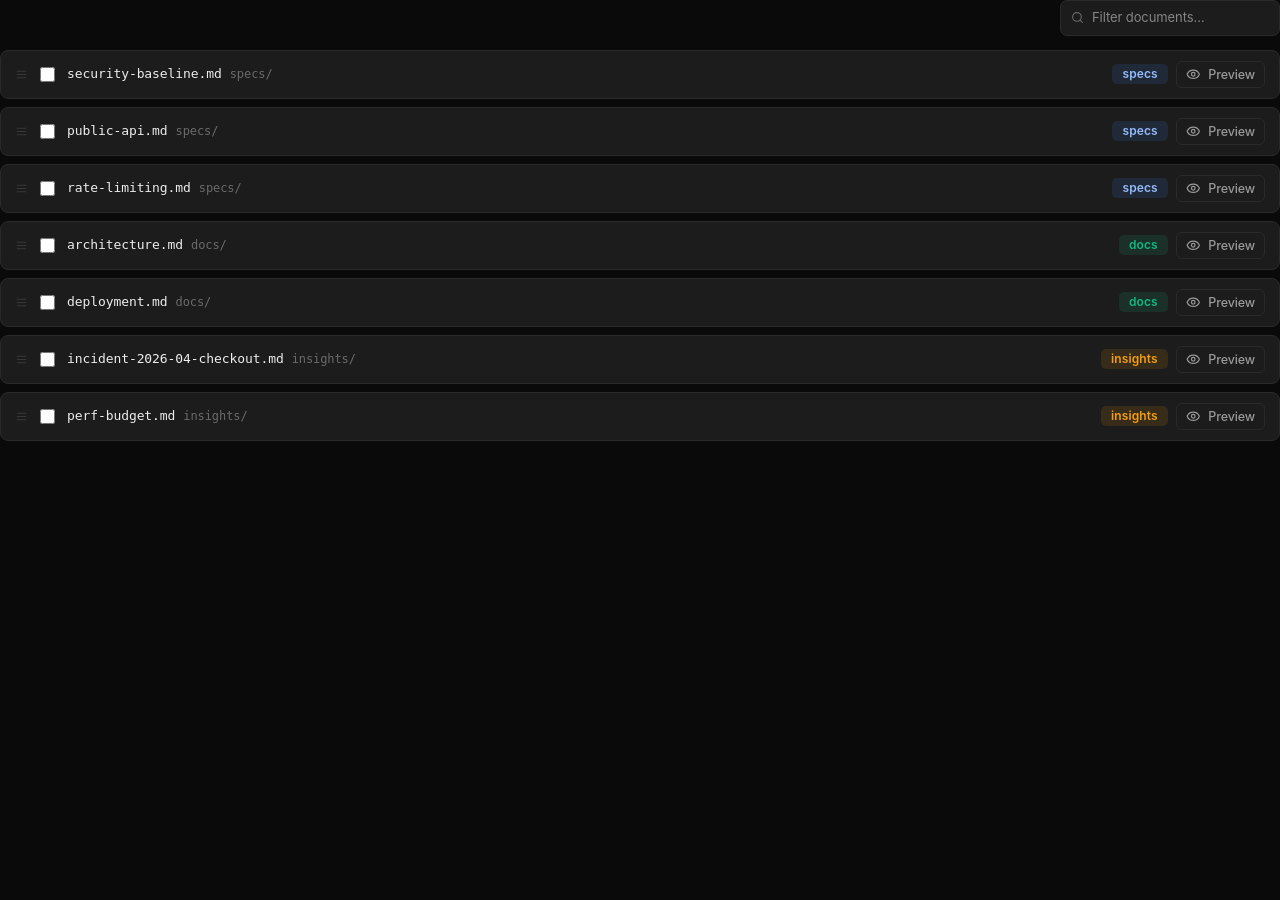
Test: AttachmentEditor — the preview dialog › closes on Escape
Step 1. Click the button "Preview" in the row of "public-api.md" → (1220, 131), box [1176,118,1265,144]
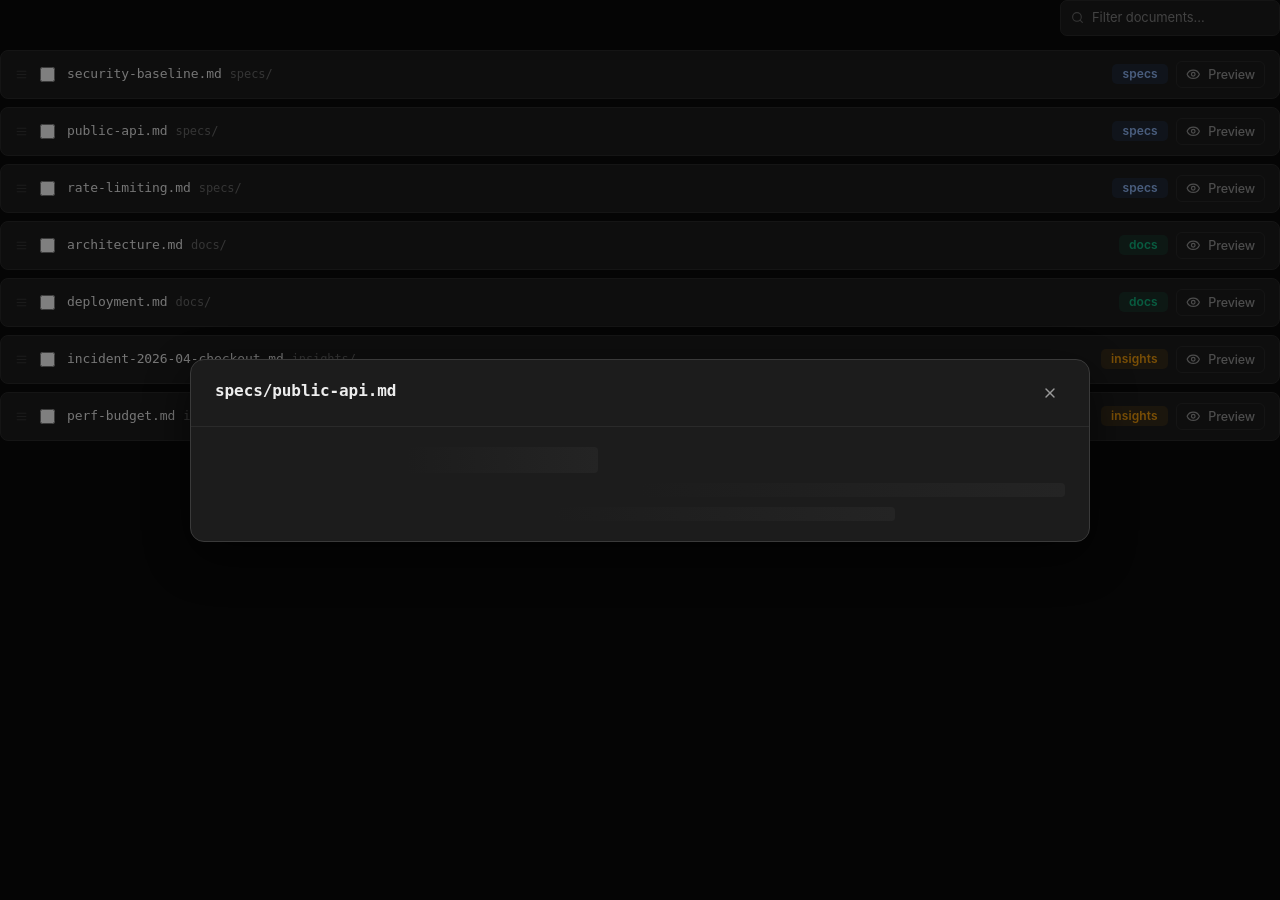
Expected: the dialog is shown, [190,358,1090,542]
Step 2. Press Escape
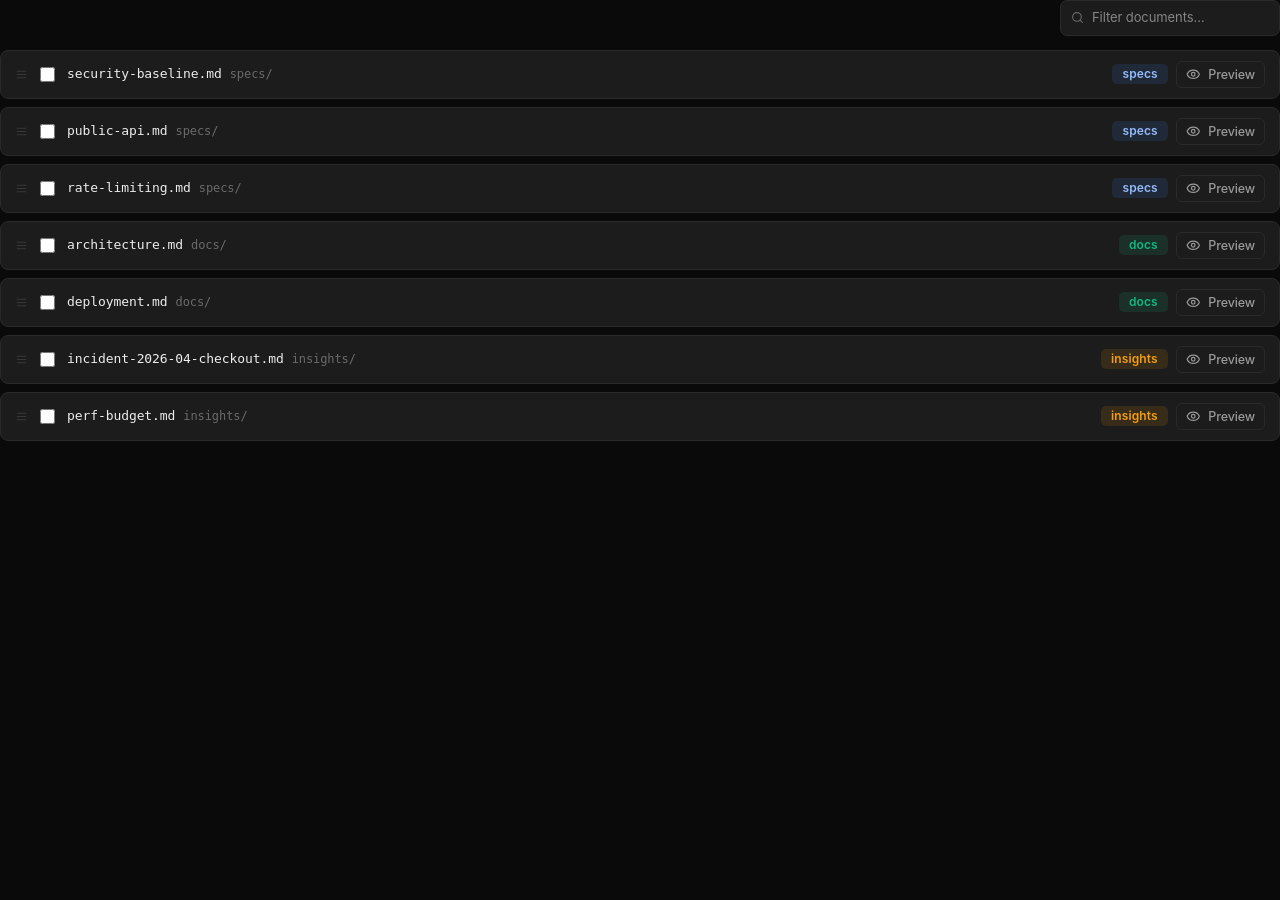
Expected: the dialog is gone
